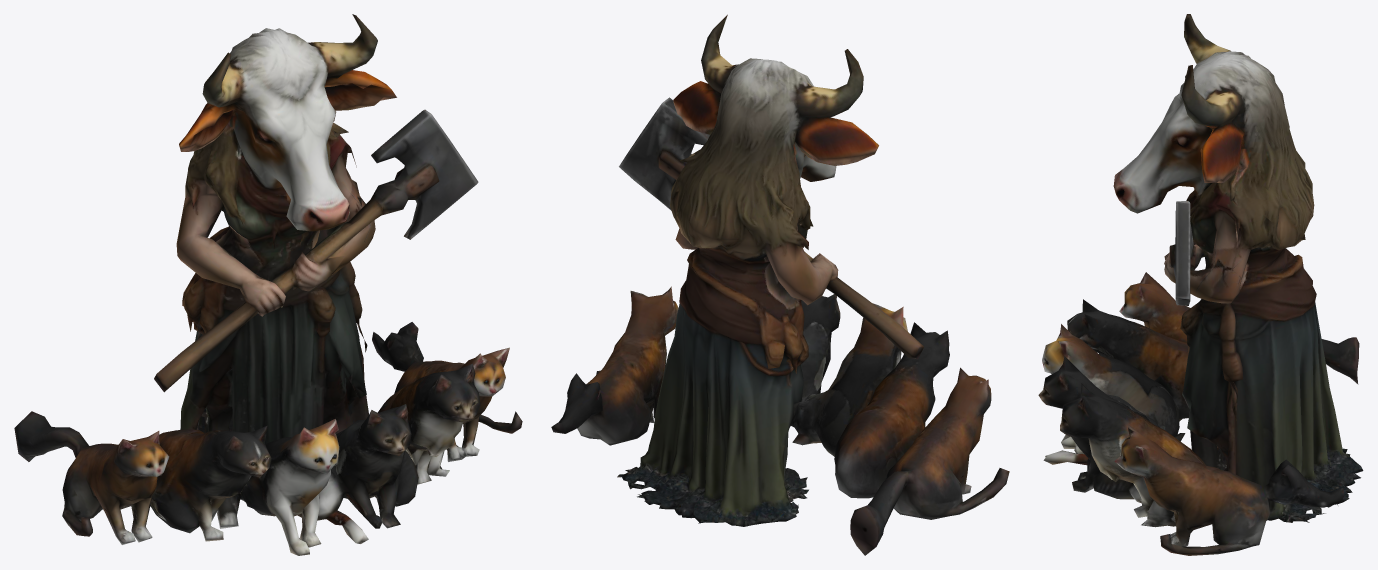
Rendered from Crazy_Cat_Cow_small.glb.
3 views of the same model, side by side, from view 1: azimuth 30°, elevation 25°; view 2: azimuth 150°, elevation 25°; view 3: azimuth 270°, elevation 25° (orthographic). The views are drawn at different scales.
Parts seen in each view (by area): view 1: Mesh1.0; view 2: Mesh1.0; view 3: Mesh1.0.
Part boxes in pixels (x1,y1,x2,y2): Mesh1.0: [14, 14, 522, 555]; Mesh1.0: [551, 14, 1009, 555]; Mesh1.0: [1038, 14, 1363, 555].
Bounding box in the file's own units: 1.91 × 1.91 × 1.29.
Materials: 1 (1 with a texture image).
